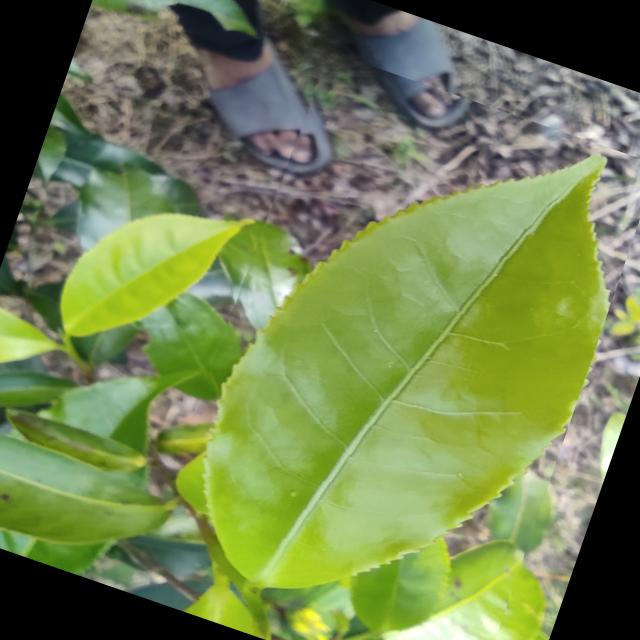Category B 2-4 days: (132, 45, 640, 640)
